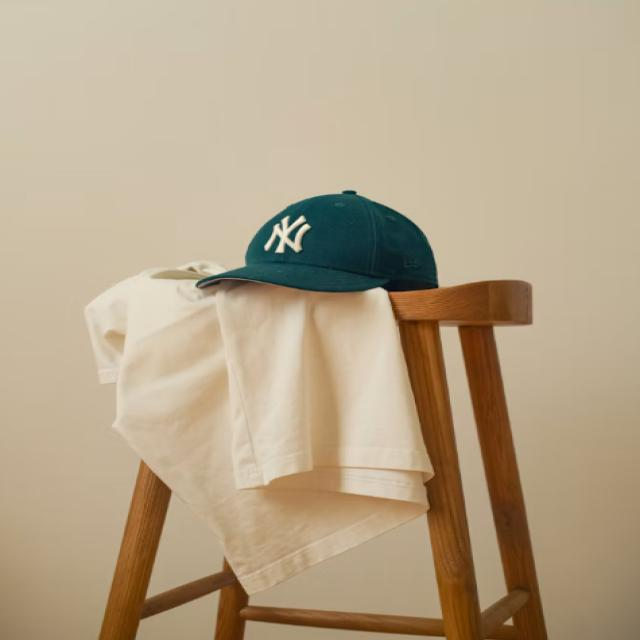Gorra: (186, 185, 451, 302)
